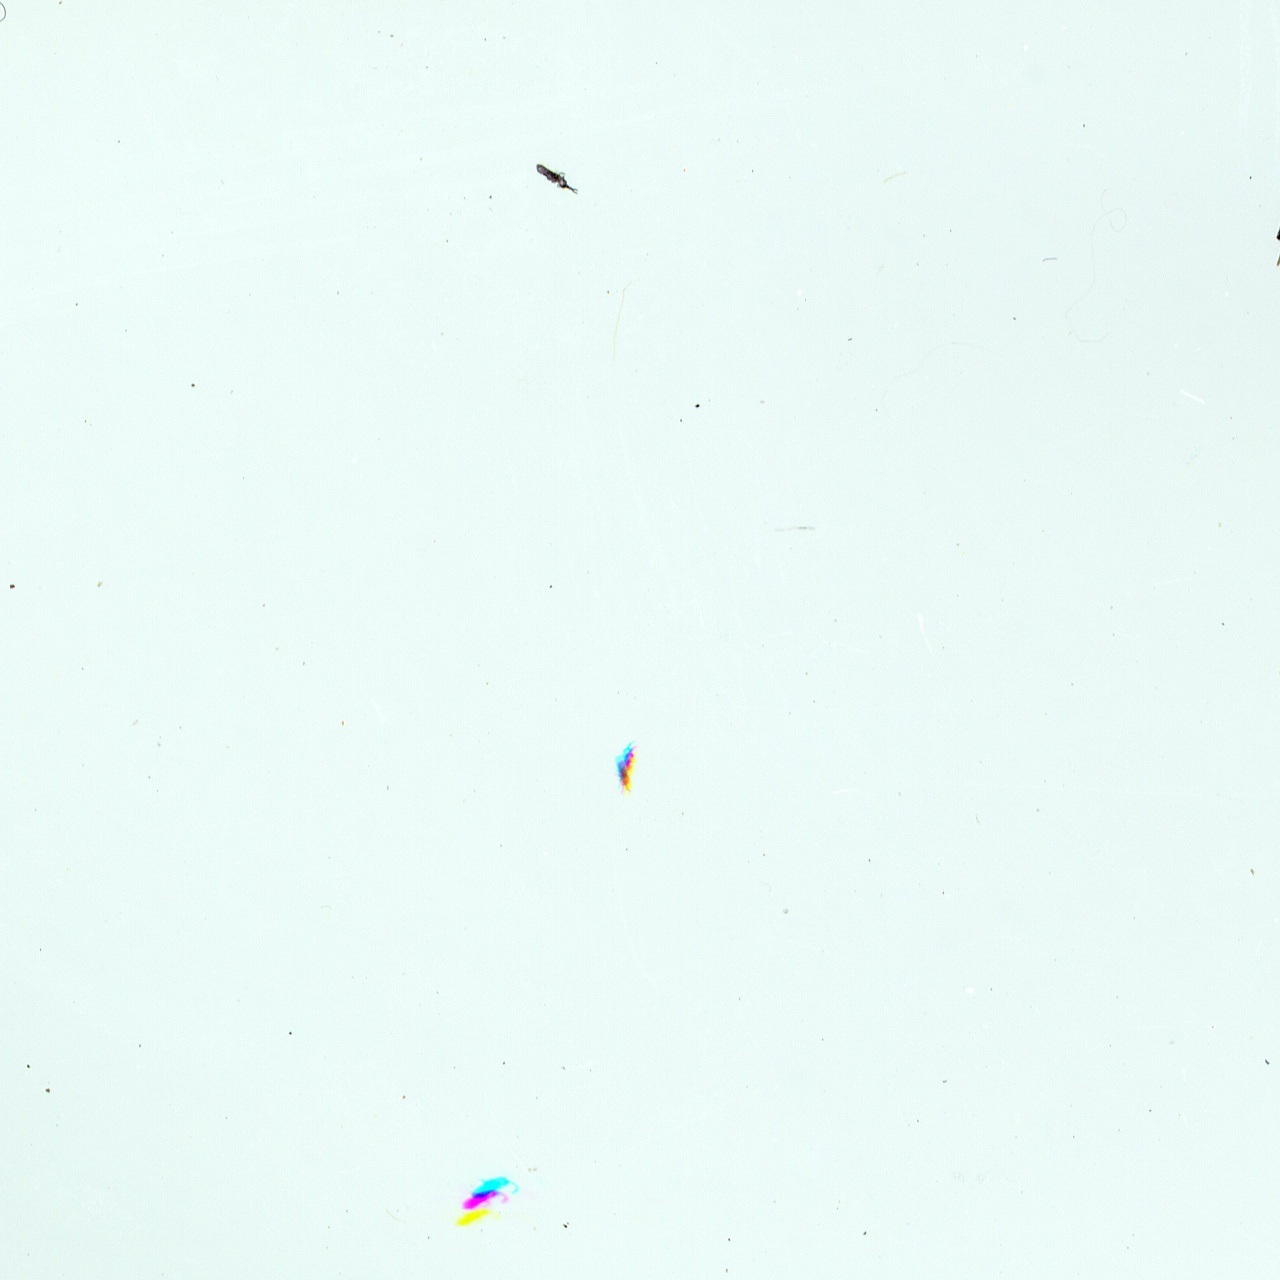arthropod: (449, 1171, 526, 1235), (520, 150, 591, 206), (610, 736, 644, 797)
